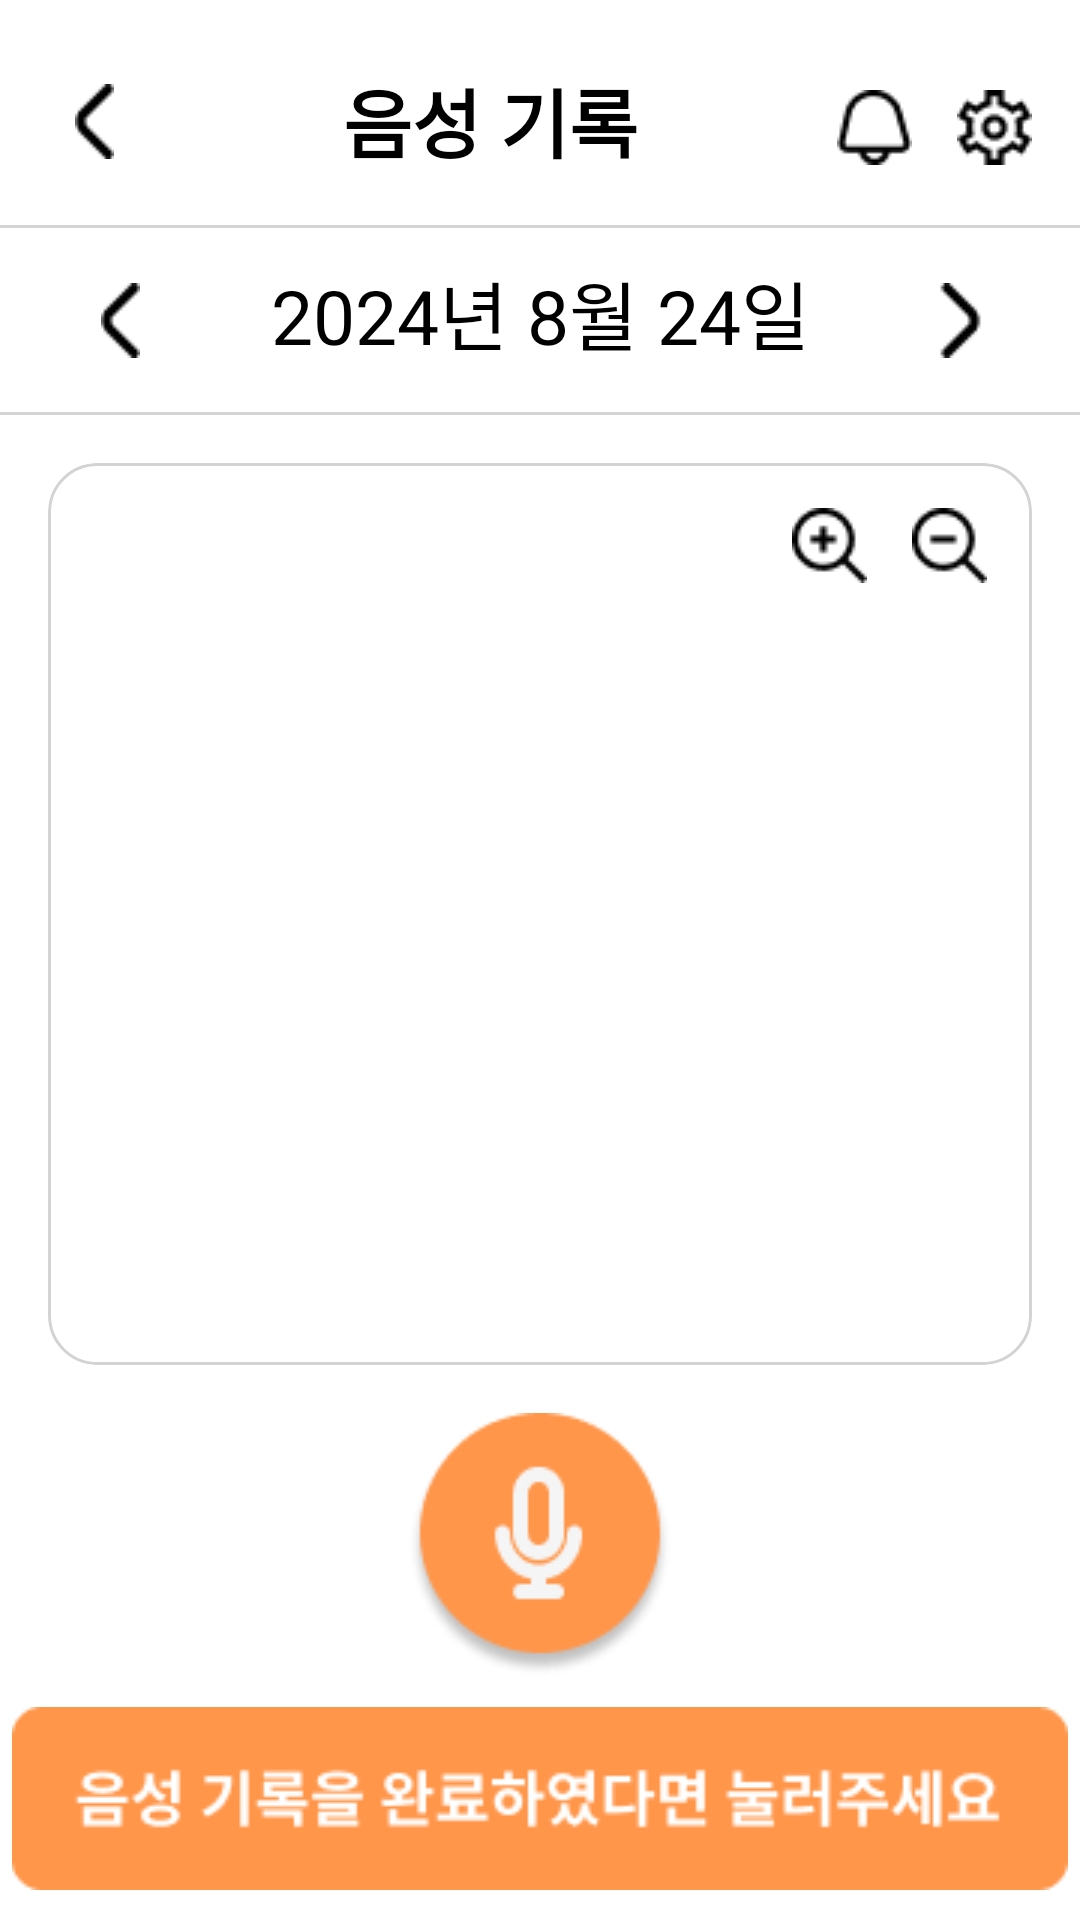

Locate icon controls on the screen. Image size 1080 x 1920, boxes as [x1, y1, x2, y2].
bell: [837, 90, 912, 165]
left arrow: [75, 84, 114, 159], [101, 283, 140, 358]
record start: [419, 1413, 661, 1667]
right arrow: [940, 283, 981, 358]
setting: [957, 90, 1032, 165]
축소: [912, 508, 987, 583]
확대: [792, 508, 867, 583]
